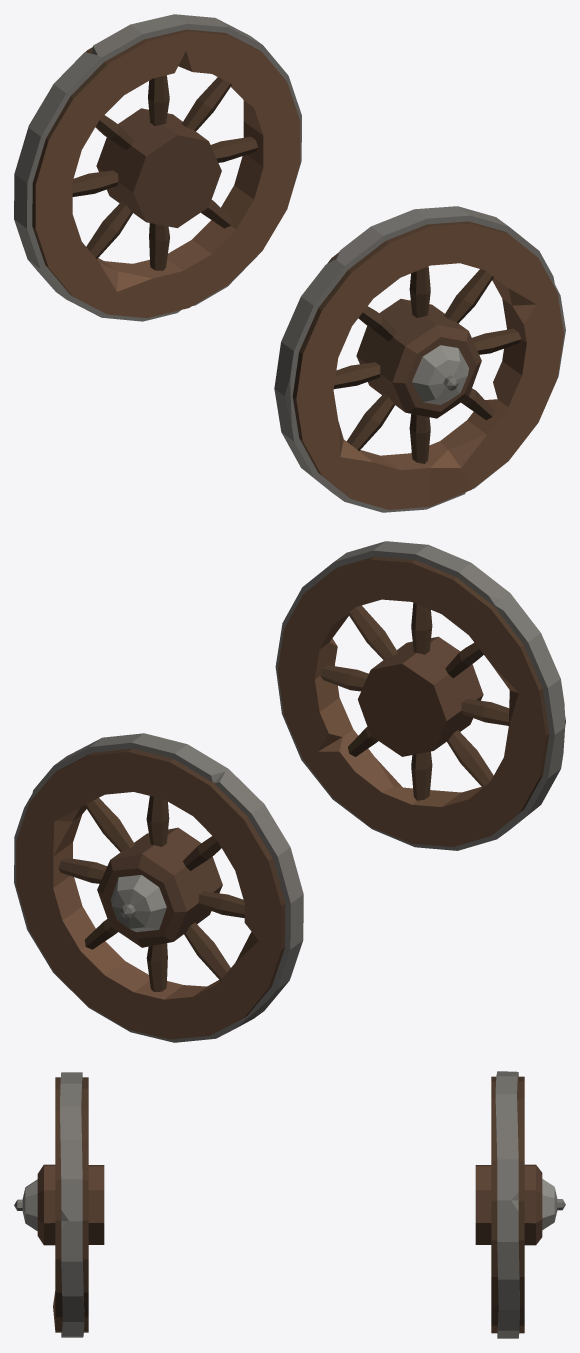
The model's file is SM_Veh_Cart_02_Wheels_01.fbx.
The picture shows the model from 3 angles, top to bottom: view 1: azimuth 30°, elevation 25°; view 2: azimuth 150°, elevation 25°; view 3: azimuth 270°, elevation 25°; orthographic projection. The views are drawn at different scales.
Parts seen in each view (by area): view 1: SM_Veh_Cart_02_Wheels_01; view 2: SM_Veh_Cart_02_Wheels_01; view 3: SM_Veh_Cart_02_Wheels_01.
Part boxes in pixels (x1,y1,x2,y2): SM_Veh_Cart_02_Wheels_01: (14,14,565,512); SM_Veh_Cart_02_Wheels_01: (14,541,565,1042); SM_Veh_Cart_02_Wheels_01: (14,1071,565,1338).
Size of the model in its own units: 89.44 by 185 by 89.44.
1 material, 1 textured.
